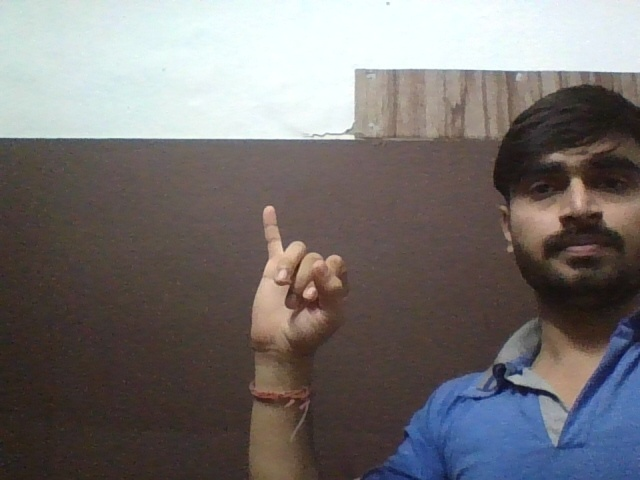I: (248, 201, 361, 362)
